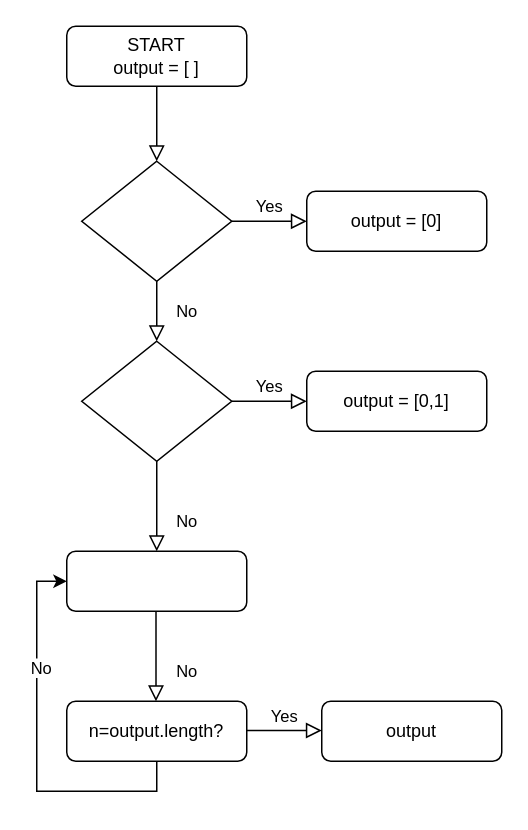
This 528x830 diagram has some shape labels left out. The shapes that lost their labels are listed below. From the top down, each one's centre as x and y in pixels, then its label:
(156,220): n=1?
(156,400): n=2?
(156,580): Sum last two values
